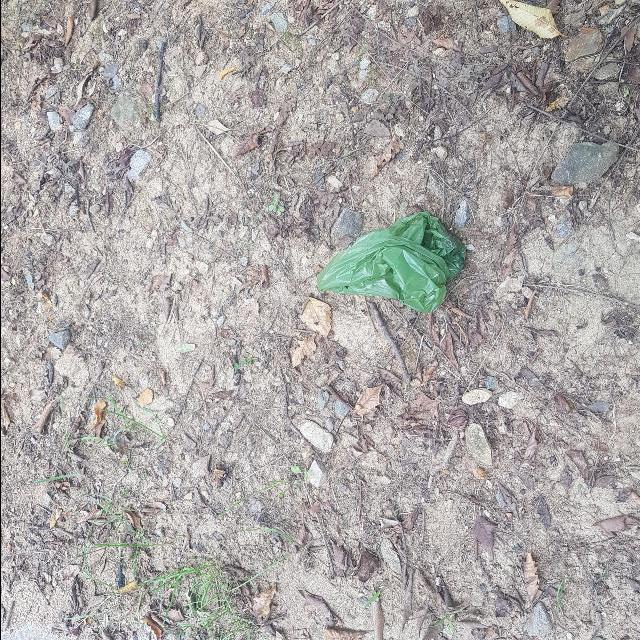plastic bag: (313, 205, 473, 312)
